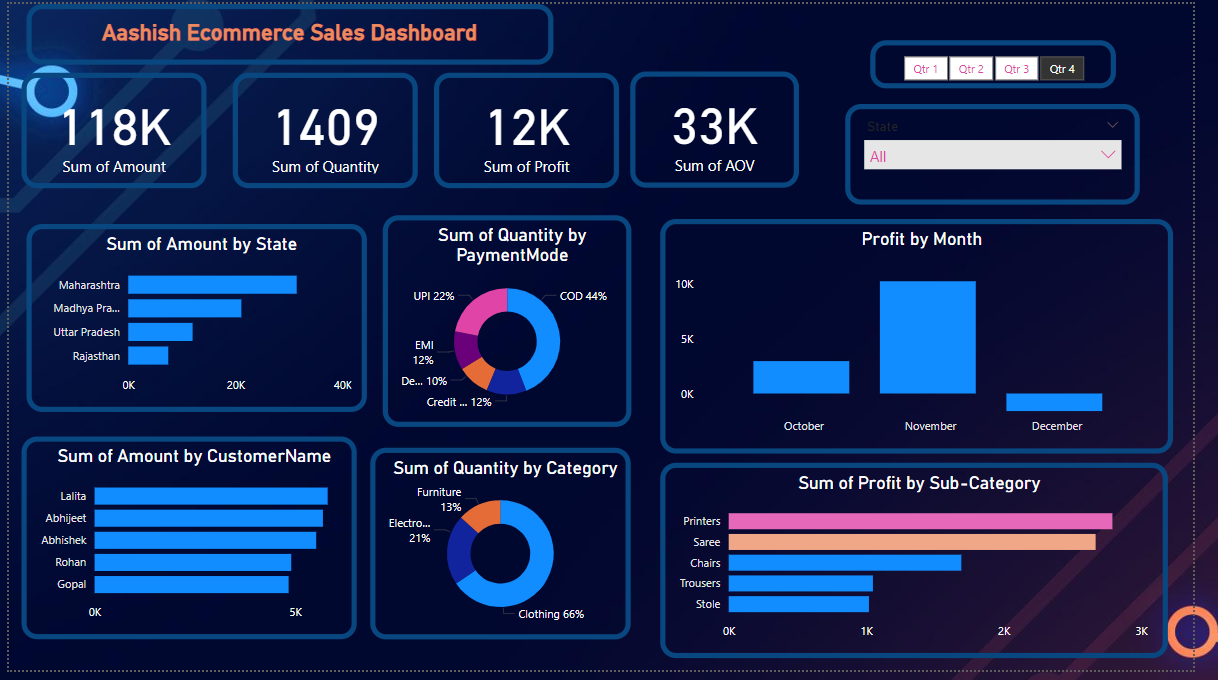

This screenshot's page, from the dashboard's own definition file:
{"tool":"powerbi","page":{"name":"Page 1","canvas":[1280,720],"ordinal":0},"visuals":[{"type":"textbox","box":[19.2,0,569.5,65.9],"z":0},{"type":"columnChart","title":"Profit by Month","fields":{"Category":["Orders.Order Date.Variation.Date Hierarchy.Month"],"Y":["Details.Profit"]},"box":[704.2,232.9,554.3,253.3],"z":1000},{"type":"barChart","fields":{"Y":["Details.Profit"],"Category":["Details.Sub-Category"]},"box":[704.2,495.8,548.9,211.1],"z":2000},{"type":"donutChart","fields":{"Y":["Details.Quantity"],"Category":["Details.Category"]},"box":[391.1,480.3,281.3,207.2],"z":3000},{"type":"donutChart","fields":{"Y":["Details.Quantity"],"Series":["Details.PaymentMode"]},"box":[403.4,227.8,269,229.2],"z":4000},{"type":"card","fields":{"Values":["Details.Amount"]},"box":[13.7,74.1,200.3,124.9],"z":5000},{"type":"card","fields":{"Values":["Details.Quantity"]},"box":[241.5,74.1,200.3,124.9],"z":6000},{"type":"card","fields":{"Values":["Details.Profit"]},"box":[459.7,74.1,200.3,124.9],"z":7000},{"type":"card","fields":{"Values":["Details.AOV"]},"box":[671.5,73.5,182.5,125.3],"z":8000},{"type":"barChart","fields":{"Y":["Details.Amount"],"Category":["Orders.State"]},"box":[19.2,237.4,367.8,203.1],"z":9000},{"type":"barChart","fields":{"Category":["Orders.CustomerName"],"Y":["Details.Amount"]},"box":[13.7,467.9,362.3,219.6],"z":10000},{"type":"slicer","fields":{"Values":["Orders.Order Date.Variation.Date Hierarchy.Quarter"]},"box":[931.6,39.5,265.6,51.8],"z":11000},{"type":"slicer","fields":{"Values":["Orders.State"]},"box":[904.4,107.6,318.7,109],"z":12000}]}

Visuals, with their boxes in screenshot pixels (x1, y1, x2, y2), scaled from the page's 1280x720 canvas onto the 1218x680 screenshot:
textbox: [x1=18, y1=0, x2=560, y2=62]
"Profit by Month" columnChart: [x1=670, y1=220, x2=1198, y2=459]
barChart - Details.Profit x Details.Sub-Category: [x1=670, y1=468, x2=1192, y2=668]
donutChart - Details.Quantity x Details.Category: [x1=372, y1=454, x2=640, y2=649]
donutChart - Details.Quantity x Details.PaymentMode: [x1=384, y1=215, x2=640, y2=432]
card - Details.Amount: [x1=13, y1=70, x2=204, y2=188]
card - Details.Quantity: [x1=230, y1=70, x2=420, y2=188]
card - Details.Profit: [x1=437, y1=70, x2=628, y2=188]
card - Details.AOV: [x1=639, y1=69, x2=813, y2=188]
barChart - Details.Amount x Orders.State: [x1=18, y1=224, x2=368, y2=416]
barChart - Orders.CustomerName x Details.Amount: [x1=13, y1=442, x2=358, y2=649]
slicer - Orders.Order Date.Variation.Date Hierarchy.Quarter: [x1=886, y1=37, x2=1139, y2=86]
slicer - Orders.State: [x1=861, y1=102, x2=1164, y2=205]
